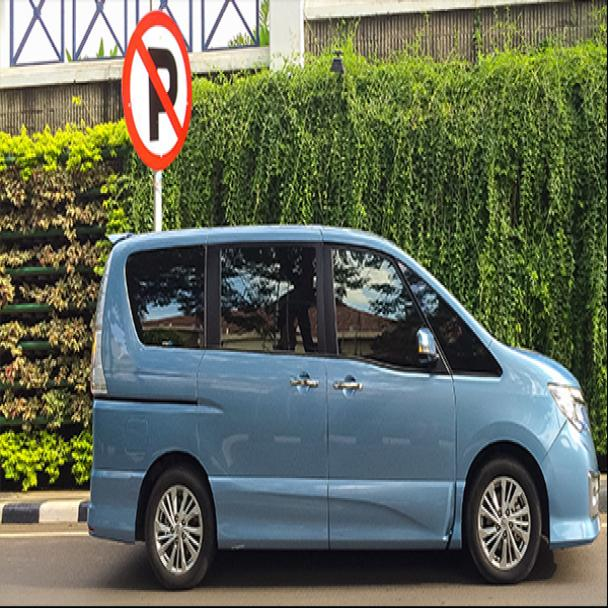Mobil: (85, 228, 602, 595)
